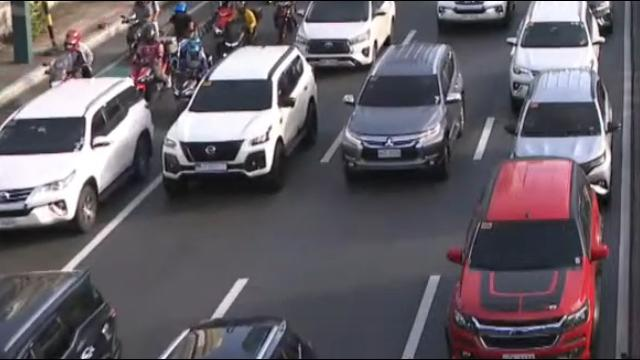car: (443, 161, 610, 360), (0, 72, 153, 238), (161, 38, 319, 193), (337, 37, 466, 182), (502, 64, 629, 203), (0, 267, 122, 360), (503, 0, 600, 102), (148, 314, 326, 360), (296, 0, 400, 78), (433, 0, 515, 32)
motorcycle: (45, 31, 96, 95), (172, 33, 212, 109), (131, 23, 168, 99), (221, 0, 266, 60), (120, 0, 162, 52), (164, 4, 200, 57), (206, 0, 238, 46), (270, 0, 297, 43)
